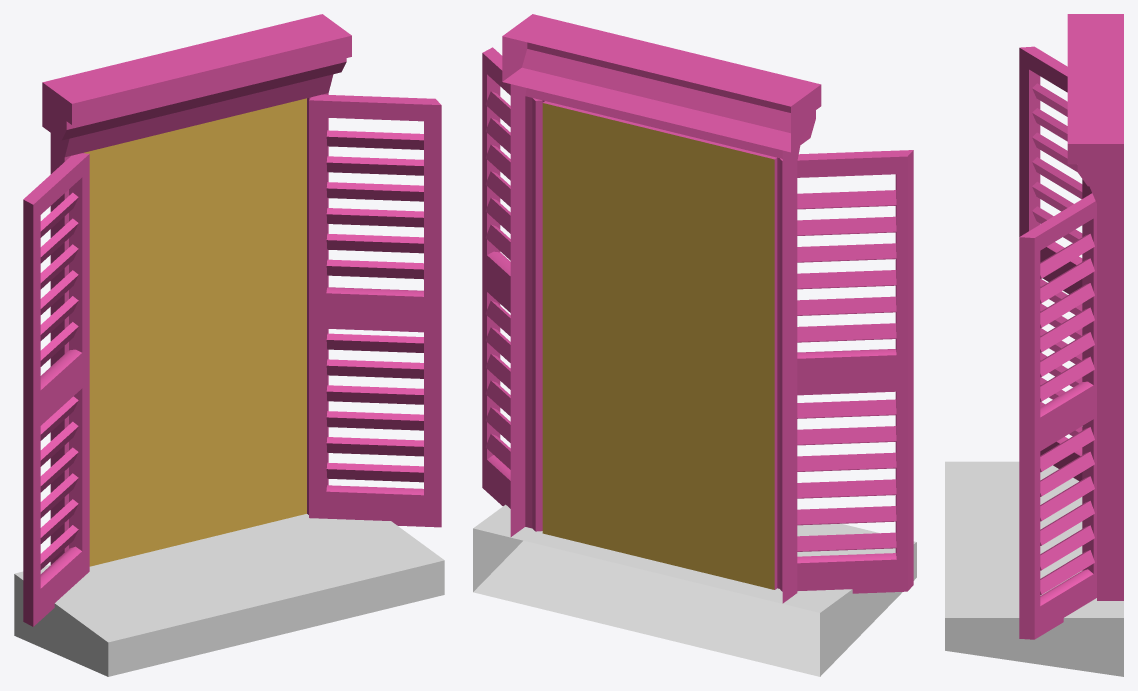
The model's file is SM_HouseBalcony_Opened.fbx.
3 renders of one model, left to right at view 1: azimuth 30°, elevation 25°; view 2: azimuth 150°, elevation 25°; view 3: azimuth 270°, elevation 25°, orthographic. The views are drawn at different scales.
Parts seen in each view (by area): view 1: Cube.006, Cube.008, Cube.003, Cube.007; view 2: Cube.006, Cube.008, Cube.003, Cube.007; view 3: Cube.008, Cube.003, Cube.006, Cube.007.
Part boxes in pixels (x1=…): Cube.006: x1=50, y1=74, x2=333, y2=566; Cube.008: x1=23, y1=94, x2=441, y2=626; Cube.003: x1=14, y1=514, x2=444, y2=676; Cube.007: x1=42, y1=14, x2=351, y2=140; Cube.006: x1=510, y1=69, x2=800, y2=603; Cube.008: x1=482, y1=47, x2=913, y2=593; Cube.003: x1=473, y1=504, x2=916, y2=676; Cube.007: x1=502, y1=14, x2=821, y2=152; Cube.008: x1=1019, y1=46, x2=1096, y2=639; Cube.003: x1=945, y1=461, x2=1123, y2=676; Cube.006: x1=1089, y1=186, x2=1123, y2=600; Cube.007: x1=1067, y1=14, x2=1123, y2=186.
Bounding box in the file's own units: 2.5 × 3.17 × 0.9874.
